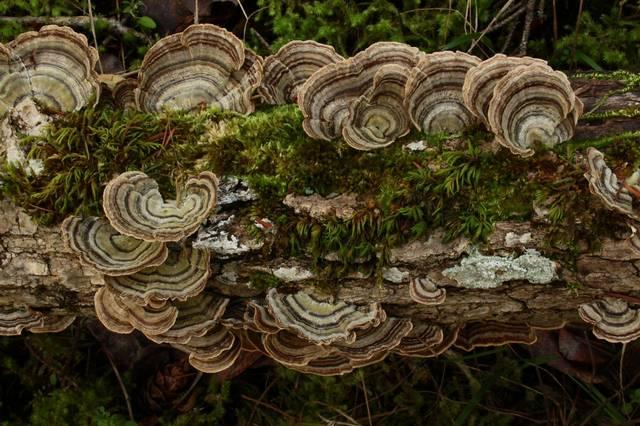poisonous_mushroom: (0, 167, 640, 405), (0, 43, 477, 150), (461, 52, 583, 157)
